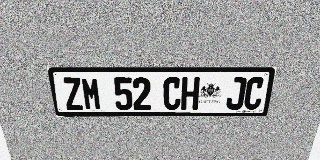2: (132, 77, 151, 110)
5: (113, 77, 133, 110)
C: (243, 77, 266, 109), (163, 77, 181, 110)
H: (181, 77, 200, 110)
J: (225, 77, 247, 110)
M: (80, 77, 102, 110)
Z: (61, 77, 84, 110)
